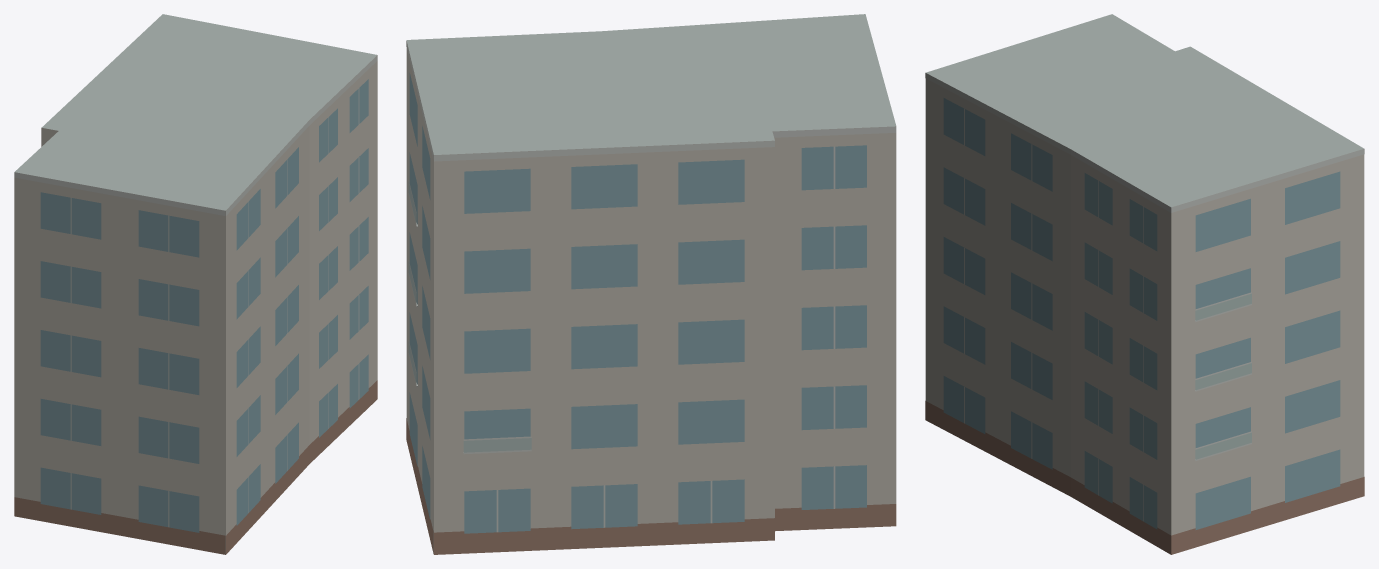
The model's file is survey-upis-32914995.glb.
The picture shows the model from 3 angles, left to right: view 1: azimuth 30°, elevation 25°; view 2: azimuth 150°, elevation 25°; view 3: azimuth 270°, elevation 25°; orthographic projection. The views are drawn at different scales.
Parts seen in each view (by area): view 1: survey-upis-32914995.tmp; view 2: survey-upis-32914995.tmp; view 3: survey-upis-32914995.tmp.
Part boxes in pixels (bbox=[...]): survey-upis-32914995.tmp: bbox=[14, 14, 377, 554]; survey-upis-32914995.tmp: bbox=[406, 14, 896, 554]; survey-upis-32914995.tmp: bbox=[925, 14, 1364, 554].
Size of the model in its own units: 18.21 by 15.25 by 17.47.
